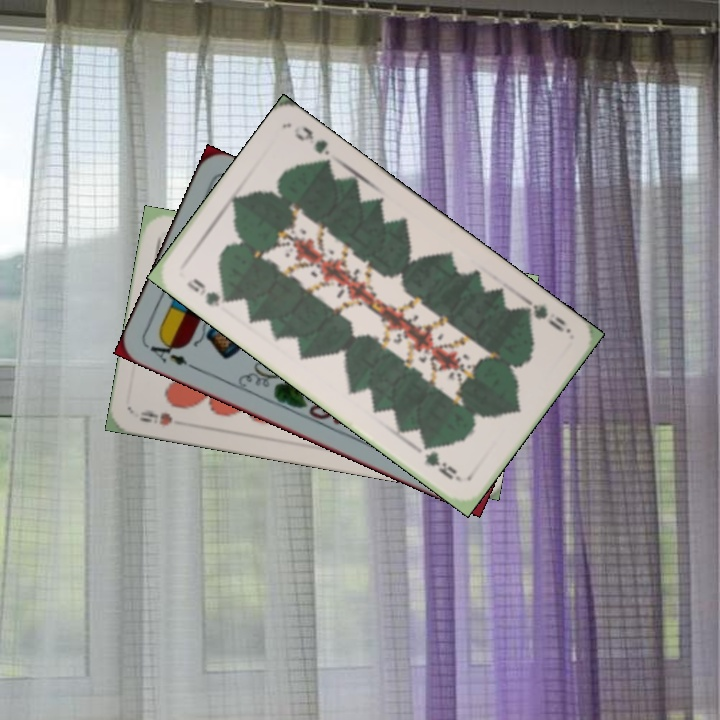EA: (146, 334, 200, 373)
G9: (516, 295, 574, 336), (182, 274, 233, 310)
H9: (136, 406, 175, 428)
